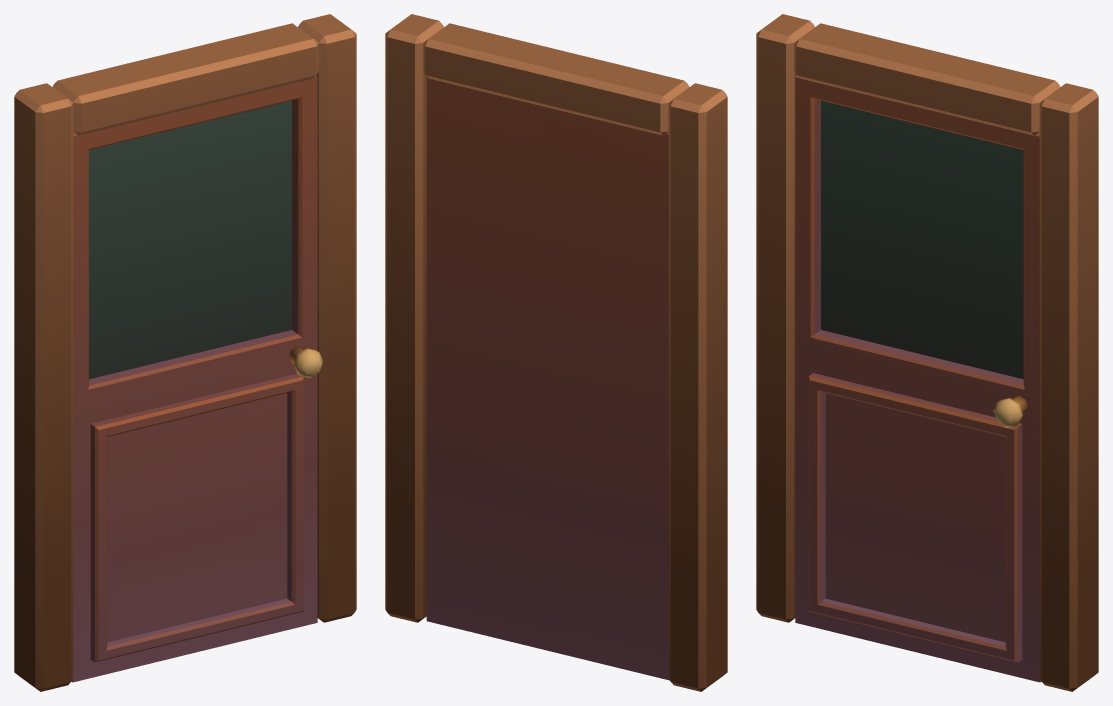
The model's file is sp_build_prop_door_03.fbx.
3 views of the same model, side by side, from view 1: azimuth 30°, elevation 25°; view 2: azimuth 150°, elevation 25°; view 3: azimuth 330°, elevation 25° (orthographic).
Visible parts, largest first — view 1: build_prop_door_03; view 2: build_prop_door_03; view 3: build_prop_door_03.
Boxes of the visible parts, <box> form: build_prop_door_03: <box>14,14,356,691</box>; build_prop_door_03: <box>385,14,727,691</box>; build_prop_door_03: <box>756,14,1098,691</box>.
Size of the model in its own units: 126 by 220 by 27.02.
